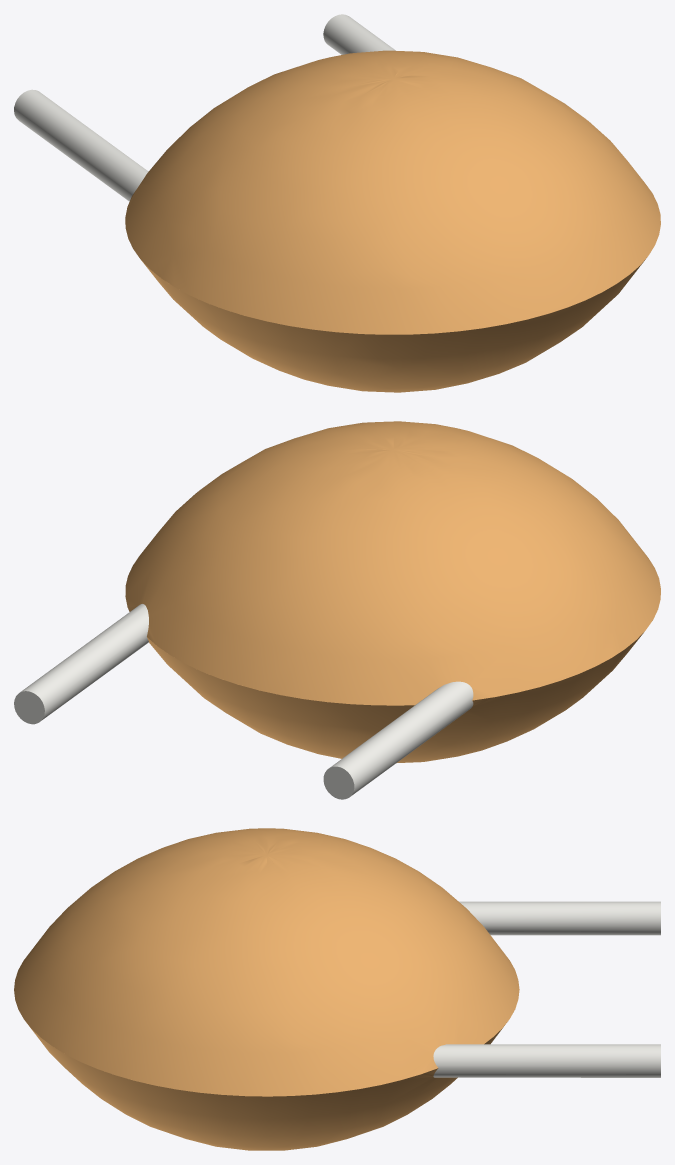
Rendered from C_Disc_D7.5mm_W4.4mm_P5.00mm.glb.
3 views of the same model, one above another, from view 1: azimuth 30°, elevation 25°; view 2: azimuth 150°, elevation 25°; view 3: azimuth 270°, elevation 25° (orthographic). The views are drawn at different scales.
Visible parts, largest first — view 1: Shape_IndexedFaceSet.002, Shape_IndexedFaceSet.003, Shape_IndexedFaceSet.004, Shape_IndexedFaceSet.001; view 2: Shape_IndexedFaceSet.002, Shape_IndexedFaceSet.003, Shape_IndexedFaceSet.004, Shape_IndexedFaceSet.001, Shape_IndexedFaceSet.005, Shape_IndexedFaceSet; view 3: Shape_IndexedFaceSet.002, Shape_IndexedFaceSet.003, Shape_IndexedFaceSet.001, Shape_IndexedFaceSet.004.
Boxes of the visible parts, x1,y1,x2,y2 form: Shape_IndexedFaceSet.002: (125,50,660,334); Shape_IndexedFaceSet.003: (141,259,645,392); Shape_IndexedFaceSet.004: (14,89,148,201); Shape_IndexedFaceSet.001: (323,14,395,54); Shape_IndexedFaceSet.002: (125,421,660,705); Shape_IndexedFaceSet.003: (147,632,643,763); Shape_IndexedFaceSet.004: (330,681,473,795); Shape_IndexedFaceSet.001: (20,604,148,719); Shape_IndexedFaceSet.005: (323,766,354,799); Shape_IndexedFaceSet: (14,691,44,724); Shape_IndexedFaceSet.002: (14,828,519,1096); Shape_IndexedFaceSet.003: (27,1023,504,1150); Shape_IndexedFaceSet.001: (433,1044,660,1077); Shape_IndexedFaceSet.004: (459,901,660,935).
Size of the model in its own units: 2.95 by 1.73 by 3.78.
